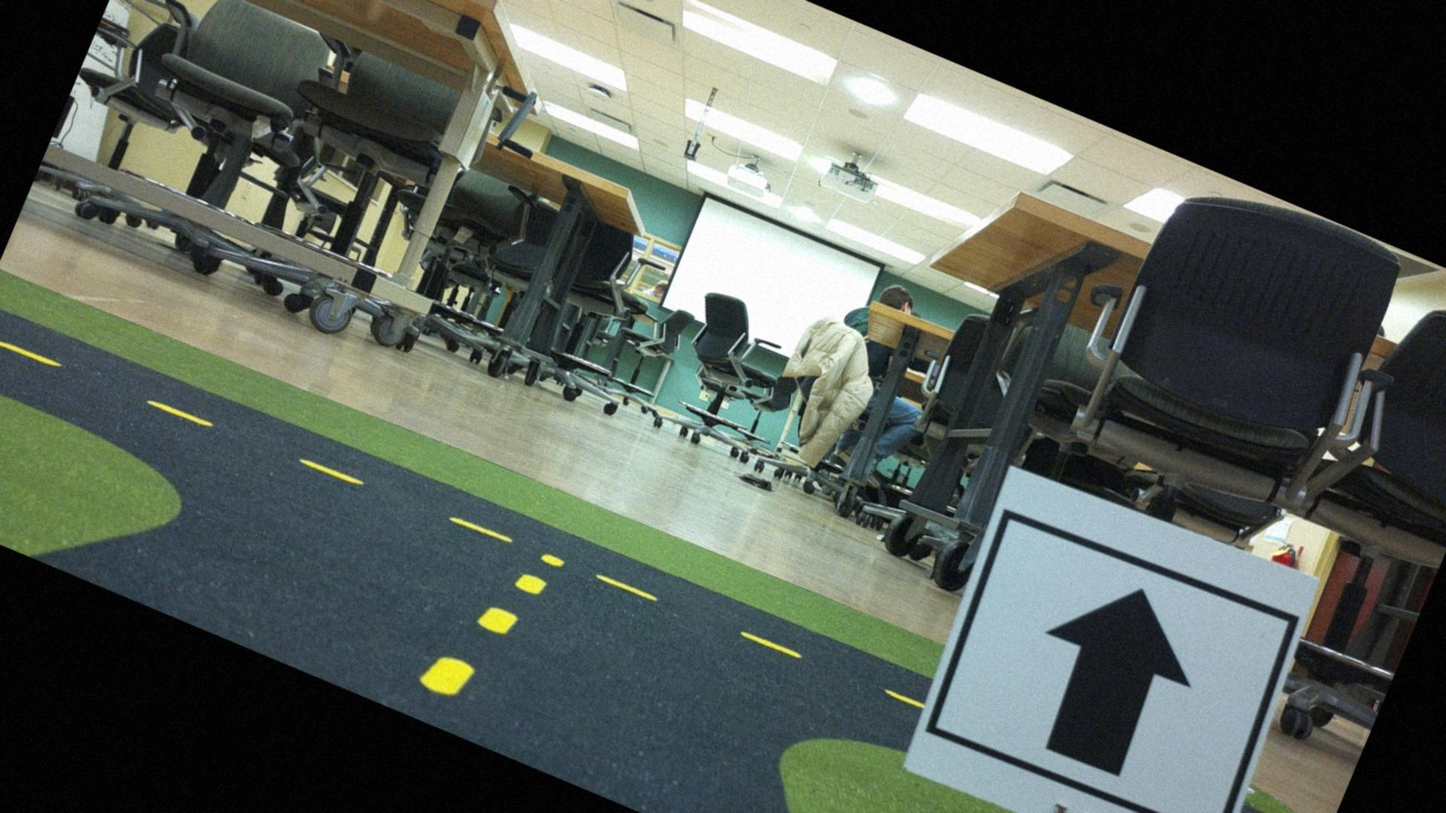gostraight: (900, 470, 1313, 812)
yellowline: (0, 312, 921, 726), (418, 528, 563, 721)
